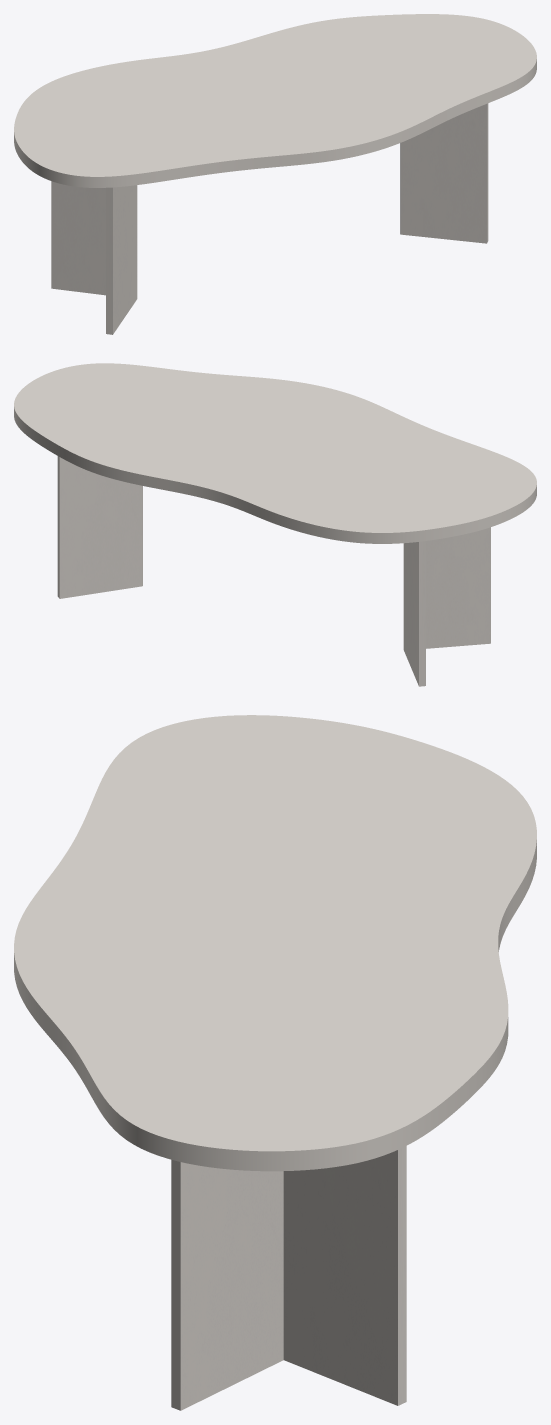
The model's file is pearlwhite_toplast_standard_valleyv.glb.
The picture shows the model from 3 angles, top to bottom: view 1: azimuth 30°, elevation 25°; view 2: azimuth 150°, elevation 25°; view 3: azimuth 270°, elevation 25°; orthographic projection. The views are drawn at different scales.
Visible parts, largest first — view 1: standard_toplast, valleyv; view 2: standard_toplast, valleyv; view 3: standard_toplast, valleyv.
Boxes of the visible parts, <box> form: standard_toplast: <box>14,14,536,187</box>; valleyv: <box>51,103,488,334</box>; standard_toplast: <box>14,363,536,543</box>; valleyv: <box>57,456,490,686</box>; standard_toplast: <box>14,715,536,1171</box>; valleyv: <box>171,1146,406,1410</box>.
Size of the model in its own units: 7.5 by 2.5 by 3.8.
1 material, 1 textured.
